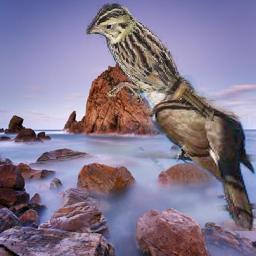Cuckoo: (128, 75, 256, 231)
Sparrow: (86, 3, 214, 122)
